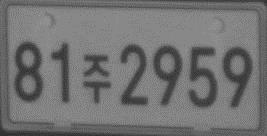1: (50, 40, 71, 104)
2: (119, 43, 150, 105)
5: (187, 45, 218, 108)
8: (13, 40, 43, 103)
9: (222, 46, 253, 108), (152, 44, 182, 106)
주: (81, 53, 112, 103)
